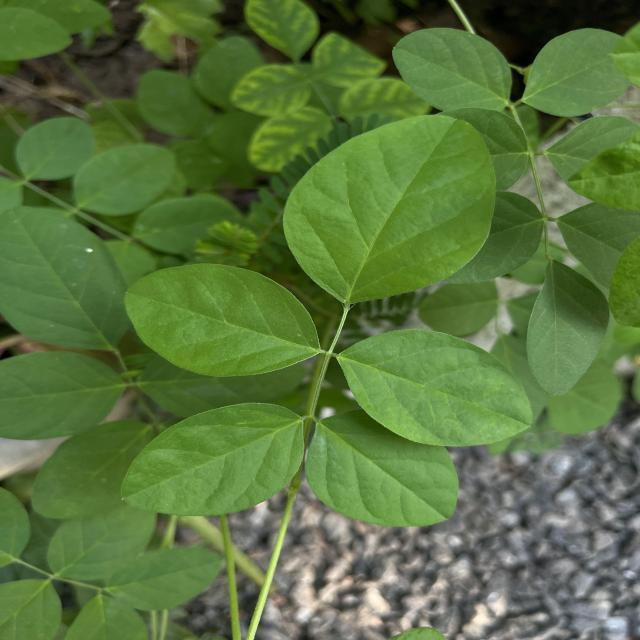Clitoria ternatea: (280, 113, 498, 305), (334, 326, 536, 449), (121, 260, 322, 380), (118, 400, 307, 518), (304, 408, 462, 529)
